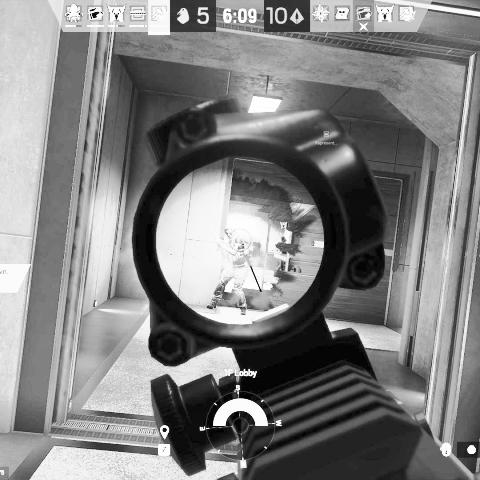Character: (204, 225, 252, 316), (276, 236, 287, 272)
Friend_label: (314, 130, 336, 146), (275, 221, 292, 236)
Head: (224, 226, 236, 241), (280, 237, 286, 243)
